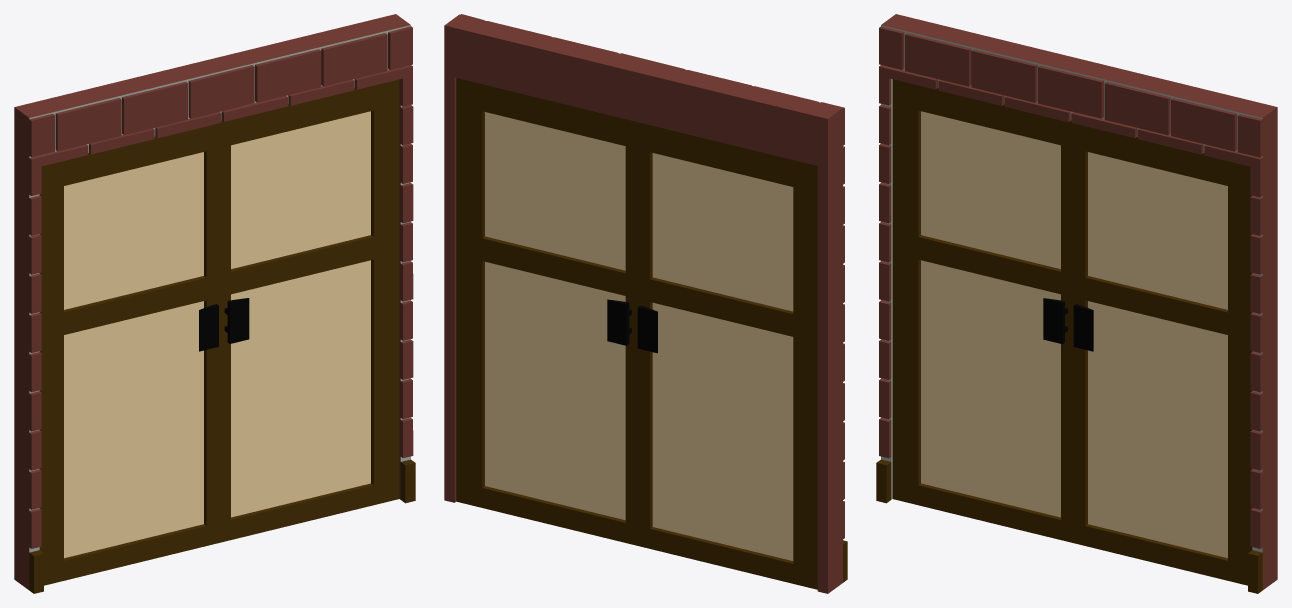
The model's file is R_Wall_Exit_Door.fbx.
3 views of the same model, side by side, from view 1: azimuth 30°, elevation 25°; view 2: azimuth 150°, elevation 25°; view 3: azimuth 330°, elevation 25° (orthographic).
Visible parts, largest first — view 1: R_Wall_Exit_Door; view 2: R_Wall_Exit_Door; view 3: R_Wall_Exit_Door.
Part boxes in pixels (x1,y1,x2,y2): R_Wall_Exit_Door: (14,14,415,593); R_Wall_Exit_Door: (444,14,847,593); R_Wall_Exit_Door: (876,14,1277,593).
Size of the model in its own units: 1913 by 201 by 2264.
